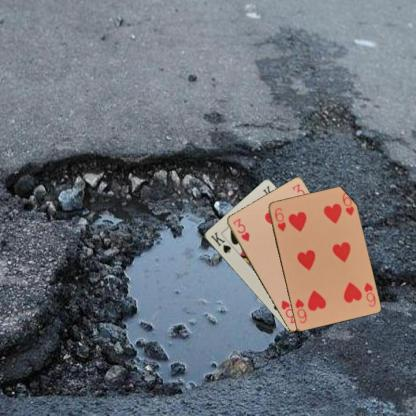3h: (230, 216, 250, 243)
6h: (361, 280, 377, 308), (272, 205, 287, 232)
Ks: (208, 229, 232, 254)
